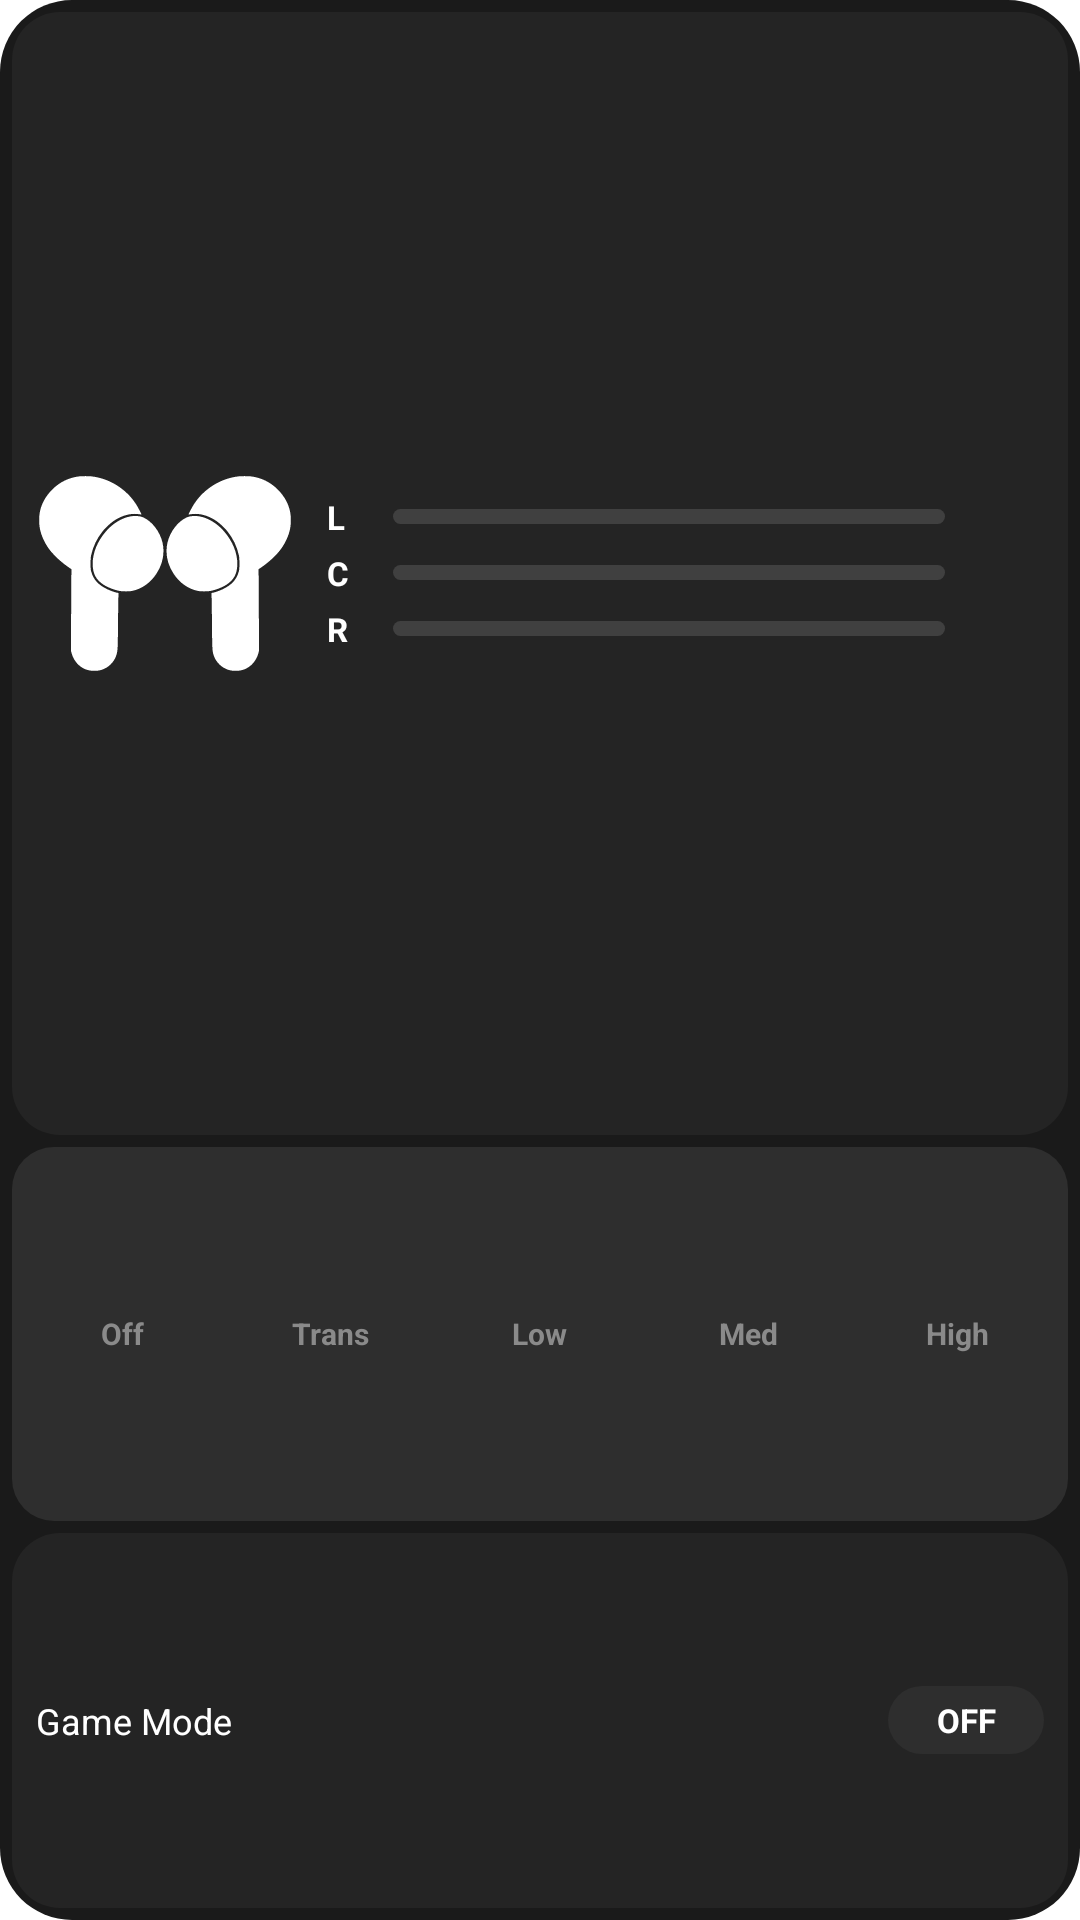

Where to tap for icons on this 1080px×1920px app screen, as (x,y):
bud left: (101,573)
bud right: (228,573)
